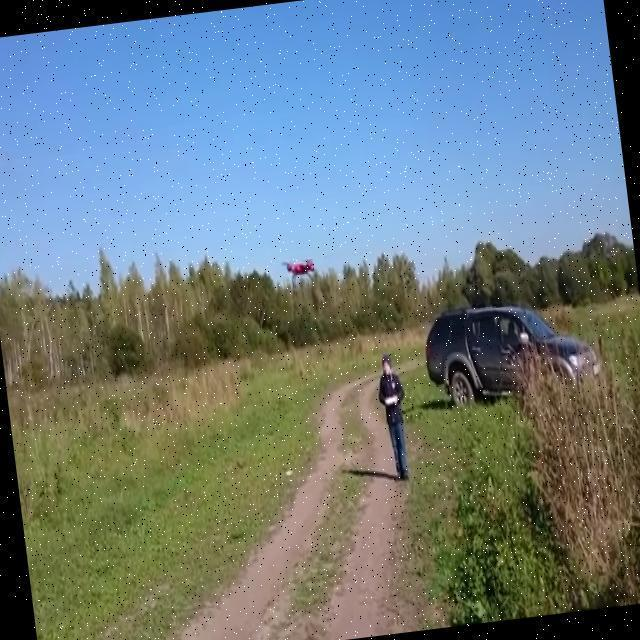Drons: (276, 252, 322, 294)
